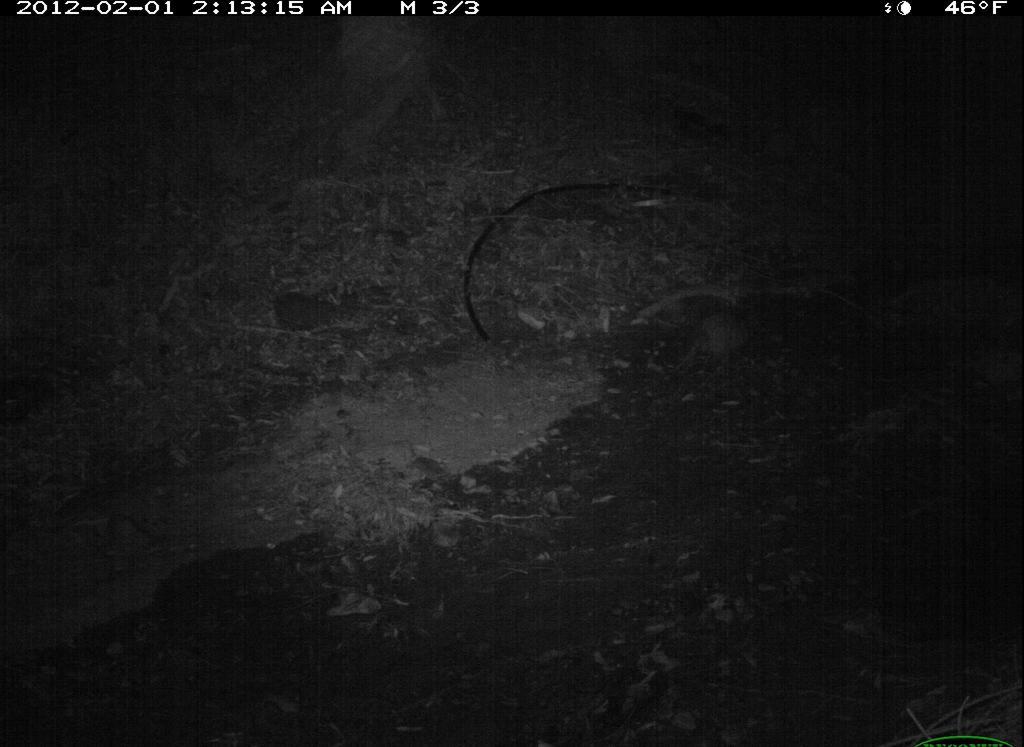opossum: (661, 296, 780, 377)
